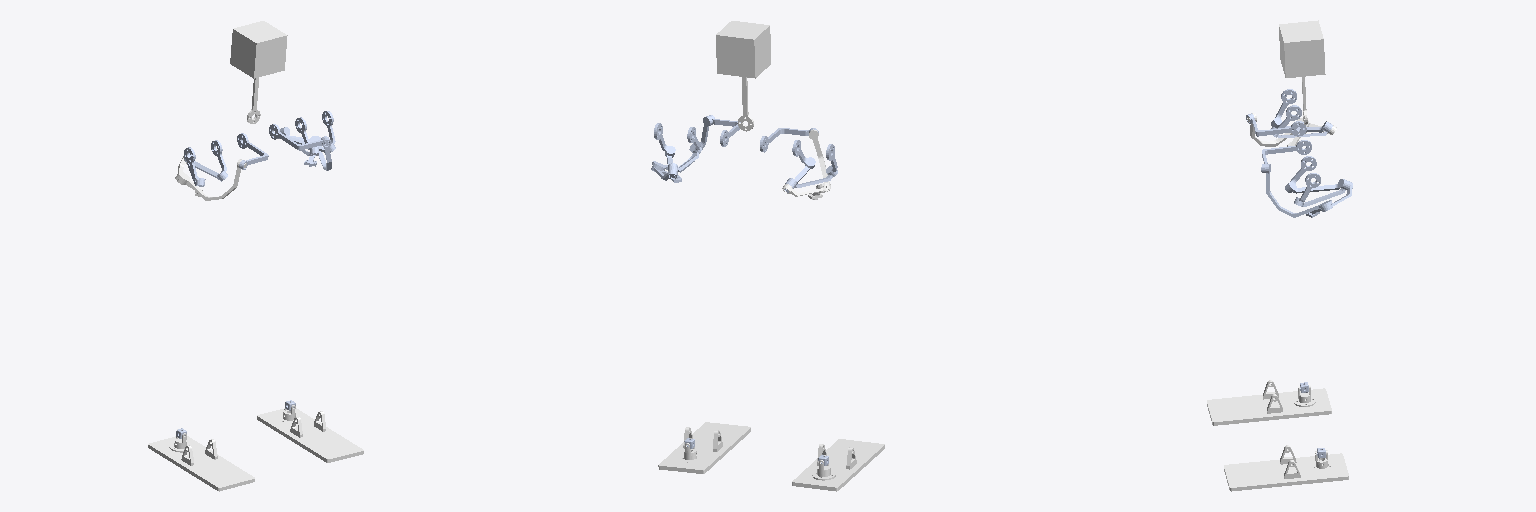
URDF robot description (URDF_Humanoid_Legs_V3.SLDASM):
<?xml version="1.0" encoding="utf-8"?>
<!-- This URDF was automatically created by SolidWorks to URDF Exporter! Originally created by [author] ([email redacted]) 
     Commit Version: 1.6.0-4-g7f85cfe  Build Version: 1.6.7995.38578
     For more information, please see http://wiki.ros.org/sw_urdf_exporter -->
<robot
  name="URDF_Humanoid_Legs_V3.SLDASM">
  <link
    name="base_link">
    <inertial>
      <origin
        xyz="0.0144455075455517 -0.00394801696589402 0.0219644780522235"
        rpy="0 0 0" />
      <mass
        value="6.0" />
      <inertia
        ixx="6.35875327338872E-05"
        ixy="-6.58066667742006E-07"
        ixz="-2.28141316036594E-08"
        iyy="5.21696312321936E-05"
        iyz="-4.57383057174044E-07"
        izz="6.36322141016105E-05" />
    </inertial>
    <visual>
      <origin
        xyz="0 0 0"
        rpy="0 0 0" />
      <geometry>
        <mesh
          filename="package://URDF_Humanoid_Legs_V3.SLDASM/meshes/base_link.STL" />
      </geometry>
      <material
        name="">
        <color
          rgba="1 1 1 1" />
      </material>
    </visual>
    <collision>
      <origin
        xyz="0 0 0"
        rpy="0 0 0" />
      <geometry>
        <mesh
          filename="package://URDF_Humanoid_Legs_V3.SLDASM/meshes/base_link.STL" />
      </geometry>
    </collision>
  </link>
  <link
    name="pelvis_link">
    <inertial>
      <origin
        xyz="0.0059686813588107 -0.0264104697868881 0.0264693755768613"
        rpy="0 0 0" />
      <mass
        value="0.76" />
      <inertia
        ixx="2.46933165009716E-05"
        ixy="-1.15599067753389E-08"
        ixz="3.88527795234152E-10"
        iyy="8.73689950962123E-05"
        iyz="2.23030846176424E-08"
        izz="8.87648575451081E-05" />
    </inertial>
    <visual>
      <origin
        xyz="0 0 0"
        rpy="0 0 0" />
      <geometry>
        <mesh
          filename="package://URDF_Humanoid_Legs_V3.SLDASM/meshes/pelvis_link.STL" />
      </geometry>
      <material
        name="">
        <color
          rgba="1 1 1 1" />
      </material>
    </visual>
    <collision>
      <origin
        xyz="0 0 0"
        rpy="0 0 0" />
      <geometry>
        <mesh
          filename="package://URDF_Humanoid_Legs_V3.SLDASM/meshes/pelvis_link.STL" />
      </geometry>
    </collision>
  </link>
  <joint
    name="pelvis_link"
    type="revolute">
    <origin
      xyz="0.0037417 0.021916 -0.095648"
      rpy="1.6179 0.051536 0.13434" />
    <parent
      link="base_link" />
    <child
      link="pelvis_link" />
    <axis
      xyz="0 0 -1" />
    <limit
      lower="-1.57"
      upper="1.57"
      effort="0"
      velocity="0" />
  </joint>
  <link
    name="RHIPp">
    <inertial>
      <origin
        xyz="0.0162877786402017 -0.0133630272371528 0.0127927816829681"
        rpy="0 0 0" />
      <mass
        value="0.08627" />
      <inertia
        ixx="1.36413523692765E-05"
        ixy="1.54973998709477E-06"
        ixz="2.89382212231118E-06"
        iyy="1.29568407070941E-05"
        iyz="-3.52554247995872E-06"
        izz="5.98007316347542E-06" />
    </inertial>
    <visual>
      <origin
        xyz="0 0 0"
        rpy="0 0 0" />
      <geometry>
        <mesh
          filename="package://URDF_Humanoid_Legs_V3.SLDASM/meshes/RHIPp.STL" />
      </geometry>
      <material
        name="">
        <color
          rgba="0.866666666666667 0.909803921568627 1 1" />
      </material>
    </visual>
    <collision>
      <origin
        xyz="0 0 0"
        rpy="0 0 0" />
      <geometry>
        <mesh
          filename="package://URDF_Humanoid_Legs_V3.SLDASM/meshes/RHIPp.STL" />
      </geometry>
    </collision>
  </link>
  <joint
    name="RHIPp"
    type="revolute">
    <origin
      xyz="-0.082912 -0.027004 0.048375"
      rpy="0.54799 0 0" />
    <parent
      link="pelvis_link" />
    <child
      link="RHIPp" />
    <axis
      xyz="1 0 0" />
    <limit
      lower="-3.14"
      upper="0.79"
      effort="0"
      velocity="0" />
  </joint>
  <link
    name="RHIPy">
    <inertial>
      <origin
        xyz="-0.00372207331369154 -0.0312537397604348 0.0232286445323699"
        rpy="0 0 0" />
      <mass
        value="0.01934" />
      <inertia
        ixx="5.4825030829968E-06"
        ixy="-1.4470005450136E-06"
        ixz="-8.0850882236902E-07"
        iyy="3.98327497583321E-06"
        iyz="-1.49821709259362E-06"
        izz="4.01650939723747E-06" />
    </inertial>
    <visual>
      <origin
        xyz="0 0 0"
        rpy="0 0 0" />
      <geometry>
        <mesh
          filename="package://URDF_Humanoid_Legs_V3.SLDASM/meshes/RHIPy.STL" />
      </geometry>
      <material
        name="">
        <color
          rgba="1 1 1 1" />
      </material>
    </visual>
    <collision>
      <origin
        xyz="0 0 0"
        rpy="0 0 0" />
      <geometry>
        <mesh
          filename="package://URDF_Humanoid_Legs_V3.SLDASM/meshes/RHIPy.STL" />
      </geometry>
    </collision>
  </link>
  <joint
    name="RHIPy"
    type="revolute">
    <origin
      xyz="0 0 0"
      rpy="0 0 0" />
    <parent
      link="RHIPp" />
    <child
      link="RHIPy" />
    <axis
      xyz="0 -0.52097 -0.85357" />
    <limit
      lower="-0.7"
      upper="1.6"
      effort="0"
      velocity="0" />
  </joint>
  <link
    name="RHIPr">
    <inertial>
      <origin
        xyz="-0.00852993333161804 -0.00430333778194963 0.040906409975098"
        rpy="0 0 0" />
      <mass
        value="0.21427" />
      <inertia
        ixx="3.20005361109862E-05"
        ixy="-2.13314061599409E-07"
        ixz="-2.70133717677379E-06"
        iyy="2.93884998791946E-05"
        iyz="-2.31061547737118E-07"
        izz="9.44823504652317E-06" />
    </inertial>
    <visual>
      <origin
        xyz="0 0 0"
        rpy="0 0 0" />
      <geometry>
        <mesh
          filename="package://URDF_Humanoid_Legs_V3.SLDASM/meshes/RHIPr.STL" />
      </geometry>
      <material
        name="">
        <color
          rgba="1 1 1 1" />
      </material>
    </visual>
    <collision>
      <origin
        xyz="0 0 0"
        rpy="0 0 0" />
      <geometry>
        <mesh
          filename="package://URDF_Humanoid_Legs_V3.SLDASM/meshes/RHIPr.STL" />
      </geometry>
    </collision>
  </link>
  <joint
    name="RHIPr"
    type="revolute">
    <origin
      xyz="-0.0019151 -0.17144 0.10276"
      rpy="2.1188 0 3.1416" />
    <parent
      link="RHIPy" />
    <child
      link="RHIPr" />
    <axis
      xyz="0 0 1" />
    <limit
      lower="-1.7"
      upper="0.52"
      effort="0"
      velocity="0" />
  </joint>
  <link
    name="RKNEEp">
    <inertial>
      <origin
        xyz="-0.0211592759865698 -0.0618738354626966 0.036368918248475"
        rpy="0 0 0" />
      <mass
        value="0.14480" />
      <inertia
        ixx="6.26154149215685E-05"
        ixy="-9.75730519291046E-07"
        ixz="5.54214165968051E-07"
        iyy="1.80067075511607E-05"
        iyz="2.36965565467955E-05"
        izz="4.85700339841872E-05" />
    </inertial>
    <visual>
      <origin
        xyz="0 0 0"
        rpy="0 0 0" />
      <geometry>
        <mesh
          filename="package://URDF_Humanoid_Legs_V3.SLDASM/meshes/RKNEEp.STL" />
      </geometry>
      <material
        name="">
        <color
          rgba="1 1 1 1" />
      </material>
    </visual>
    <collision>
      <origin
        xyz="0 0 0"
        rpy="0 0 0" />
      <geometry>
        <mesh
          filename="package://URDF_Humanoid_Legs_V3.SLDASM/meshes/RKNEEp.STL" />
      </geometry>
    </collision>
  </link>
  <joint
    name="RKNEEp"
    type="revolute">
    <origin
      xyz="-0.0145 0.0005 0"
      rpy="2.0938 -0.031615 -3.1045" />
    <parent
      link="RHIPr" />
    <child
      link="RKNEEp" />
    <axis
      xyz="0.99881 -0.0088645 0.047869" />
    <limit
      lower="-0.79"
      upper="2.6"
      effort="0"
      velocity="0" />
  </joint>
  <link
    name="RANKLEp">
    <inertial>
      <origin
        xyz="-1.85040874983722E-09 -1.84960408100565E-09 0.00500000184962268"
        rpy="0 0 0" />
      <mass
        value="0.00590" />
      <inertia
        ixx="3.7794522268695E-08"
        ixy="6.93549584595086E-21"
        ixz="-6.80459451401434E-21"
        iyy="3.77945222686951E-08"
        iyz="-6.85709463351732E-21"
        izz="3.77945222686951E-08" />
    </inertial>
    <visual>
      <origin
        xyz="0 0 0"
        rpy="0 0 0" />
      <geometry>
        <mesh
          filename="package://URDF_Humanoid_Legs_V3.SLDASM/meshes/RANKLEp.STL" />
      </geometry>
      <material
        name="">
        <color
          rgba="0.866666666666667 0.909803921568627 1 1" />
      </material>
    </visual>
    <collision>
      <origin
        xyz="0 0 0"
        rpy="0 0 0" />
      <geometry>
        <mesh
          filename="package://URDF_Humanoid_Legs_V3.SLDASM/meshes/RANKLEp.STL" />
      </geometry>
    </collision>
  </link>
  <joint
    name="RANKLEp"
    type="revolute">
    <origin
      xyz="-0.020463 -0.17739 0.10166"
      rpy="-3.046 1.0455 -1.4969" />
    <parent
      link="RKNEEp" />
    <child
      link="RANKLEp" />
    <axis
      xyz="0 -1 0" />
    <limit
      lower="-1.4"
      upper="1.4"
      effort="0"
      velocity="0" />
  </joint>
  <link
    name="RANKLEy">
    <inertial>
      <origin
        xyz="8.16258449720664E-11 0.0407877084718919 0.0214005607738913"
        rpy="0 0 0" />
      <mass
        value="0.14942" />
      <inertia
        ixx="8.38514534613717E-05"
        ixy="5.21580961353776E-15"
        ixz="1.132655874317E-14"
        iyy="1.3744091708472E-05"
        iyz="-1.13165531851637E-08"
        izz="9.70905380754172E-05" />
    </inertial>
    <visual>
      <origin
        xyz="0 0 0"
        rpy="0 0 0" />
      <geometry>
        <mesh
          filename="package://URDF_Humanoid_Legs_V3.SLDASM/meshes/RANKLEy.STL" />
      </geometry>
      <material
        name="">
        <color
          rgba="1 1 1 1" />
      </material>
    </visual>
    <collision>
      <origin
        xyz="0 0 0"
        rpy="0 0 0" />
      <geometry>
        <mesh
          filename="package://URDF_Humanoid_Legs_V3.SLDASM/meshes/RANKLEy.STL" />
      </geometry>
    </collision>
  </link>
  <joint
    name="RANKLEy"
    type="revolute">
    <origin
      xyz="-0.00024303 0 0.005"
      rpy="3.1416 0 -1.5708" />
    <parent
      link="RANKLEp" />
    <child
      link="RANKLEy" />
    <axis
      xyz="0 1 0" />
    <limit
      lower="-0.52"
      upper="0.52"
      effort="0"
      velocity="0" />
  </joint>
  <link
    name="LHIPp">
    <inertial>
      <origin
        xyz="0.00506577352286371 -0.0175468311848719 -0.0180828985978941"
        rpy="0 0 0" />
      <mass
        value="0.08627" />
      <inertia
        ixx="4.4735443752088E-06"
        ixy="-2.66504529533205E-06"
        ixz="1.42372120746739E-06"
        iyy="1.38696354509355E-05"
        iyz="4.37730477214756E-08"
        izz="1.42350863531616E-05" />
    </inertial>
    <visual>
      <origin
        xyz="0 0 0"
        rpy="0 0 0" />
      <geometry>
        <mesh
          filename="package://URDF_Humanoid_Legs_V3.SLDASM/meshes/LHIPp.STL" />
      </geometry>
      <material
        name="">
        <color
          rgba="0.866666666666667 0.909803921568627 1 1" />
      </material>
    </visual>
    <collision>
      <origin
        xyz="0 0 0"
        rpy="0 0 0" />
      <geometry>
        <mesh
          filename="package://URDF_Humanoid_Legs_V3.SLDASM/meshes/LHIPp.STL" />
      </geometry>
    </collision>
  </link>
  <joint
    name="LHIPp"
    type="revolute">
    <origin
      xyz="0.095548 -0.027004 0.04725"
      rpy="2.8498 -1.5708 1.847" />
    <parent
      link="pelvis_link" />
    <child
      link="LHIPp" />
    <axis
      xyz="0 1 0" />
    <limit
      lower="-3.14"
      upper="0.79"
      effort="0"
      velocity="0" />
  </joint>
  <link
    name="LHIPy">
    <inertial>
      <origin
        xyz="0.000407510080643672 0.00263808681897457 -0.0398992326314391"
        rpy="0 0 0" />
      <mass
        value="0.01934" />
      <inertia
        ixx="1.56132626802381E-05"
        ixy="7.07458995414407E-06"
        ixz="-2.90668462732435E-06"
        iyy="3.24353194636072E-05"
        iyz="4.47644236574541E-06"
        izz="3.17288201922621E-05" />
    </inertial>
    <visual>
      <origin
        xyz="0 0 0"
        rpy="0 0 0" />
      <geometry>
        <mesh
          filename="package://URDF_Humanoid_Legs_V3.SLDASM/meshes/LHIPy.STL" />
      </geometry>
      <material
        name="">
        <color
          rgba="0.866666666666667 0.909803921568627 1 1" />
      </material>
    </visual>
    <collision>
      <origin
        xyz="0 0 0"
        rpy="0 0 0" />
      <geometry>
        <mesh
          filename="package://URDF_Humanoid_Legs_V3.SLDASM/meshes/LHIPy.STL" />
      </geometry>
    </collision>
  </link>
  <joint
    name="LHIPy"
    type="revolute">
    <origin
      xyz="0 0 0"
      rpy="0 0 0" />
    <parent
      link="LHIPp" />
    <child
      link="LHIPy" />
    <axis
      xyz="-1 0 0" />
    <limit
      lower="-1.6"
      upper="0.7"
      effort="0"
      velocity="0" />
  </joint>
  <link
    name="LHIPr">
    <inertial>
      <origin
        xyz="-0.00858602610093928 -0.00470614401994481 -0.0410634630964772"
        rpy="0 0 0" />
      <mass
        value="0.21427" />
      <inertia
        ixx="3.19983853255584E-05"
        ixy="-2.13601696053138E-07"
        ixz="2.70146546775301E-06"
        iyy="2.93873094391899E-05"
        iyz="2.28332283113833E-07"
        izz="9.44705371354832E-06" />
    </inertial>
    <visual>
      <origin
        xyz="0 0 0"
        rpy="0 0 0" />
      <geometry>
        <mesh
          filename="package://URDF_Humanoid_Legs_V3.SLDASM/meshes/LHIPr.STL" />
      </geometry>
      <material
        name="">
        <color
          rgba="1 1 1 1" />
      </material>
    </visual>
    <collision>
      <origin
        xyz="0 0 0"
        rpy="0 0 0" />
      <geometry>
        <mesh
          filename="package://URDF_Humanoid_Legs_V3.SLDASM/meshes/LHIPr.STL" />
      </geometry>
    </collision>
  </link>
  <joint
    name="LHIPr"
    type="revolute">
    <origin
      xyz="0.0020009 0.00086595 -0.2"
      rpy="3.1416 0 1.5708" />
    <parent
      link="LHIPy" />
    <child
      link="LHIPr" />
    <axis
      xyz="0 0 -1" />
    <limit
      lower="-0.52"
      upper="1.7"
      effort="0"
      velocity="0" />
  </joint>
  <link
    name="LKNEEp">
    <inertial>
      <origin
        xyz="0.0198943593807984 0.00129513735668229 0.0714650498121955"
        rpy="0 0 0" />
      <mass
        value="0.14480" />
      <inertia
        ixx="0.000169233198460797"
        ixy="2.48776236698737E-08"
        ixz="1.74423884604693E-06"
        iyy="0.000165987468170451"
        iyz="3.70936894431773E-06"
        izz="1.38660398030817E-05" />
    </inertial>
    <visual>
      <origin
        xyz="0 0 0"
        rpy="0 0 0" />
      <geometry>
        <mesh
          filename="package://URDF_Humanoid_Legs_V3.SLDASM/meshes/LKNEEp.STL" />
      </geometry>
      <material
        name="">
        <color
          rgba="0.866666666666667 0.909803921568627 1 1" />
      </material>
    </visual>
    <collision>
      <origin
        xyz="0 0 0"
        rpy="0 0 0" />
      <geometry>
        <mesh
          filename="package://URDF_Humanoid_Legs_V3.SLDASM/meshes/LKNEEp.STL" />
      </geometry>
    </collision>
  </link>
  <joint
    name="LKNEEp"
    type="revolute">
    <origin
      xyz="-0.0152 0 0"
      rpy="0 0 0" />
    <parent
      link="LHIPr" />
    <child
      link="LKNEEp" />
    <axis
      xyz="-1 0 0" />
    <limit
      lower="-2.6"
      upper="0.79"
      effort="0"
      velocity="0" />
  </joint>
  <link
    name="LANKLEp">
    <inertial>
      <origin
        xyz="-1.84958448556927E-09 -1.84959818294583E-09 0.00500000184879898"
        rpy="0 0 0" />
      <mass
        value="0.00590" />
      <inertia
        ixx="3.77945222686952E-08"
        ixy="6.89341303228723E-21"
        ixz="-6.77853832471892E-21"
        iyy="3.77945222686951E-08"
        iyz="-6.84698752040769E-21"
        izz="3.77945222686952E-08" />
    </inertial>
    <visual>
      <origin
        xyz="0 0 0"
        rpy="0 0 0" />
      <geometry>
        <mesh
          filename="package://URDF_Humanoid_Legs_V3.SLDASM/meshes/LANKLEp.STL" />
      </geometry>
      <material
        name="">
        <color
          rgba="0.866666666666667 0.909803921568627 1 1" />
      </material>
    </visual>
    <collision>
      <origin
        xyz="0 0 0"
        rpy="0 0 0" />
      <geometry>
        <mesh
          filename="package://URDF_Humanoid_Legs_V3.SLDASM/meshes/LANKLEp.STL" />
      </geometry>
    </collision>
  </link>
  <joint
    name="LANKLEp"
    type="revolute">
    <origin
      xyz="0.0152 0.005 0.2"
      rpy="1.5708 1.5708 0" />
    <parent
      link="LKNEEp" />
    <child
      link="LANKLEp" />
    <axis
      xyz="0 -1 0" />
    <limit
      lower="-1.4"
      upper="1.4"
      effort="0"
      velocity="0" />
  </joint>
  <link
    name="LANKLEy">
    <inertial>
      <origin
        xyz="4.79427608723881E-12 0.0376072027757355 -0.0235825366788683"
        rpy="0 0 0" />
      <mass
        value="0.14942" />
      <inertia
        ixx="8.37067999521343E-05"
        ixy="2.24378163754058E-14"
        ixz="-8.6074581708554E-15"
        iyy="1.38141738120107E-05"
        iyz="4.21765318989417E-06"
        izz="9.66362481808808E-05" />
    </inertial>
    <visual>
      <origin
        xyz="0 0 0"
        rpy="0 0 0" />
      <geometry>
        <mesh
          filename="package://URDF_Humanoid_Legs_V3.SLDASM/meshes/LANKLEy.STL" />
      </geometry>
      <material
        name="">
        <color
          rgba="1 1 1 1" />
      </material>
    </visual>
    <collision>
      <origin
        xyz="0 0 0"
        rpy="0 0 0" />
      <geometry>
        <mesh
          filename="package://URDF_Humanoid_Legs_V3.SLDASM/meshes/LANKLEy.STL" />
      </geometry>
    </collision>
  </link>
  <joint
    name="LANKLEy"
    type="revolute">
    <origin
      xyz="0 0 0"
      rpy="-1.5202 0 -1.5708" />
    <parent
      link="LANKLEp" />
    <child
      link="LANKLEy" />
    <axis
      xyz="0 -0.99872 0.050592" />
    <limit
      lower="-0.523"
      upper="0.523"
      effort="0"
      velocity="0" />
  </joint>
</robot>

--- What the picture shows (computed from the rendered views, not written in the file) ---
The picture shows the robot from 3 angles, left to right: view 1: azimuth 30°, elevation 25°; view 2: azimuth 150°, elevation 25°; view 3: azimuth 270°, elevation 25°; orthographic projection.
Robot: URDF_Humanoid_Legs_V3.SLDASM — 14 links, 13 joints (13 revolute); root link base_link; default pose: every joint at zero.
Visible links, largest first — view 1: base_link, RANKLEy, LANKLEy, RHIPp, LHIPp, RHIPy; view 2: base_link, RANKLEy, LANKLEy, RHIPp, LHIPp, RHIPy, LHIPy; view 3: LANKLEy, RANKLEy, base_link, LHIPp, RHIPp, LHIPy.
Link boxes in pixels (bbox=[...]): base_link: bbox=[230, 21, 287, 123]; RANKLEy: bbox=[148, 429, 254, 491]; LANKLEy: bbox=[257, 405, 363, 462]; RHIPp: bbox=[184, 133, 268, 186]; LHIPp: bbox=[269, 111, 335, 155]; RHIPy: bbox=[175, 156, 246, 200]; base_link: bbox=[716, 21, 770, 131]; RANKLEy: bbox=[792, 439, 884, 491]; LANKLEy: bbox=[658, 422, 750, 473]; RHIPp: bbox=[760, 128, 837, 192]; LHIPp: bbox=[654, 115, 740, 177]; RHIPy: bbox=[782, 129, 830, 199]; LHIPy: bbox=[651, 116, 711, 182]; LANKLEy: bbox=[1224, 445, 1348, 491]; RANKLEy: bbox=[1207, 380, 1331, 425]; base_link: bbox=[1279, 20, 1325, 124]; LHIPp: bbox=[1261, 140, 1349, 206]; RHIPp: bbox=[1246, 89, 1332, 137]; LHIPy: bbox=[1266, 164, 1352, 217].
Bounding box of the posed robot: 0.2605 × 0.1828 × 0.5857 m (x, y, z).
Meshes: 14 distinct files referenced, 9 mesh visuals loaded (9 binary STL); not drawn: 5 (reference not matched to a file when rendering).